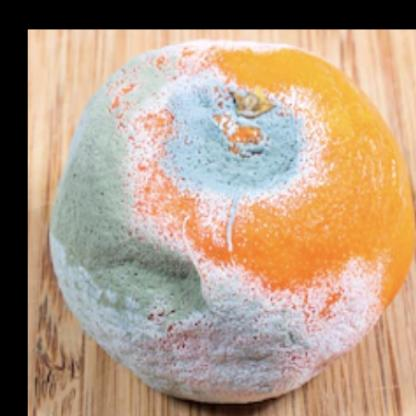rotten: (50, 41, 416, 407)
